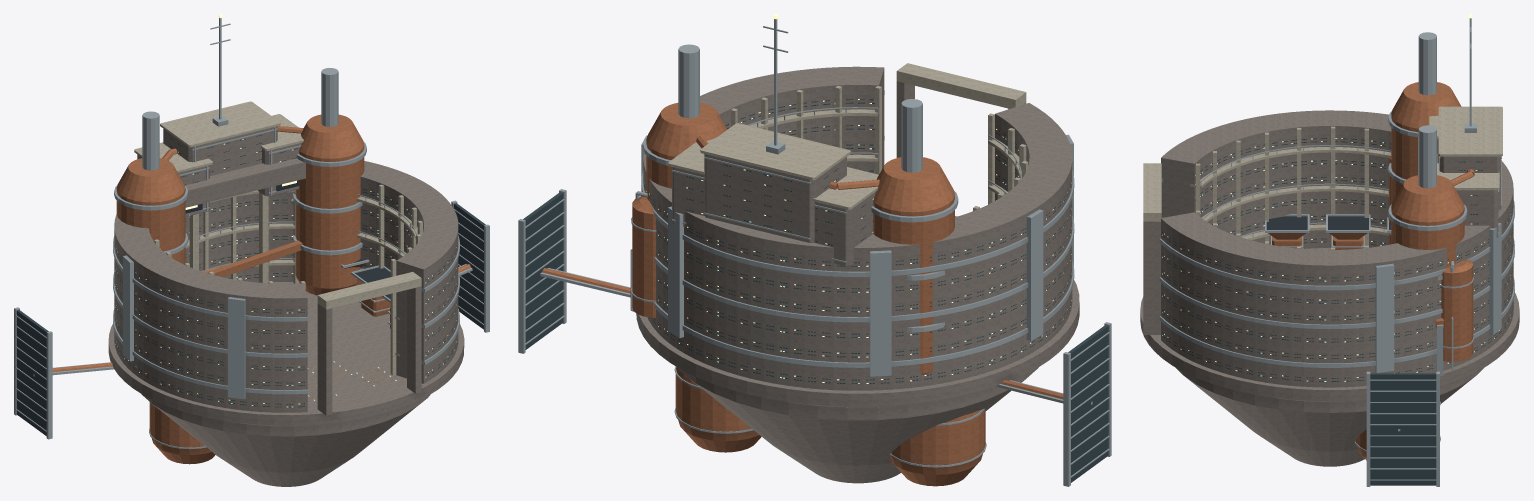
File: cinderfall.glb
The picture shows the model from 3 angles, left to right: view 1: azimuth 30°, elevation 25°; view 2: azimuth 150°, elevation 25°; view 3: azimuth 270°, elevation 25°; orthographic projection. The views are drawn at different scales.
Visible parts, largest first — view 1: cinderfall / hull, cinderfall / copper, cinderfall / metal, cinderfall / armor, cinderfall / radiator, cinderfall / glass, cinderfall / dark; view 2: cinderfall / hull, cinderfall / metal, cinderfall / copper, cinderfall / armor, cinderfall / radiator, cinderfall / glass; view 3: cinderfall / hull, cinderfall / metal, cinderfall / copper, cinderfall / armor, cinderfall / radiator, cinderfall / glass, cinderfall / dark, cinderfall / warm.
Boxes of the visible parts, left/top/right/bottom form: cinderfall / hull: left=108, top=126, right=464, bottom=486; cinderfall / copper: left=52, top=114, right=470, bottom=464; cinderfall / metal: left=14, top=18, right=489, bottom=449; cinderfall / armor: left=134, top=101, right=422, bottom=375; cinderfall / radiator: left=16, top=203, right=485, bottom=435; cinderfall / glass: left=114, top=134, right=457, bottom=407; cinderfall / dark: left=185, top=180, right=390, bottom=299; cinderfall / hull: left=636, top=66, right=1079, bottom=483; cinderfall / metal: left=518, top=19, right=1111, bottom=486; cinderfall / copper: left=542, top=102, right=1063, bottom=486; cinderfall / armor: left=668, top=63, right=1028, bottom=210; cinderfall / radiator: left=523, top=192, right=1108, bottom=482; cinderfall / glass: left=644, top=99, right=1072, bottom=383; cinderfall / hull: left=1140, top=110, right=1519, bottom=466; cinderfall / metal: left=1159, top=18, right=1514, bottom=486; cinderfall / copper: left=1268, top=82, right=1474, bottom=460; cinderfall / armor: left=1143, top=106, right=1502, bottom=249; cinderfall / radiator: left=1370, top=373, right=1436, bottom=485; cinderfall / glass: left=1162, top=138, right=1513, bottom=381; cinderfall / dark: left=1266, top=216, right=1391, bottom=229; cinderfall / warm: left=1162, top=14, right=1510, bottom=381.
Bounding box in the file's own units: 157 × 138 × 109.
10 materials, 4 textured.
